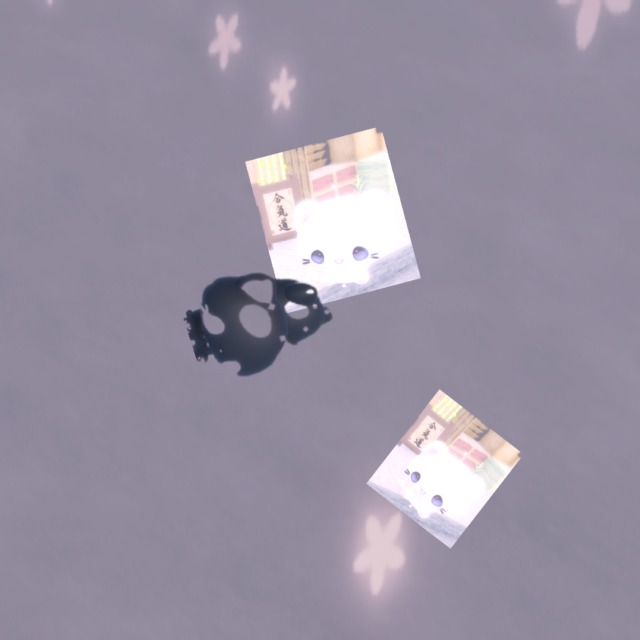urso_branco: (245, 126, 421, 314), (366, 389, 524, 549)
urso_preto: (173, 241, 355, 400)
